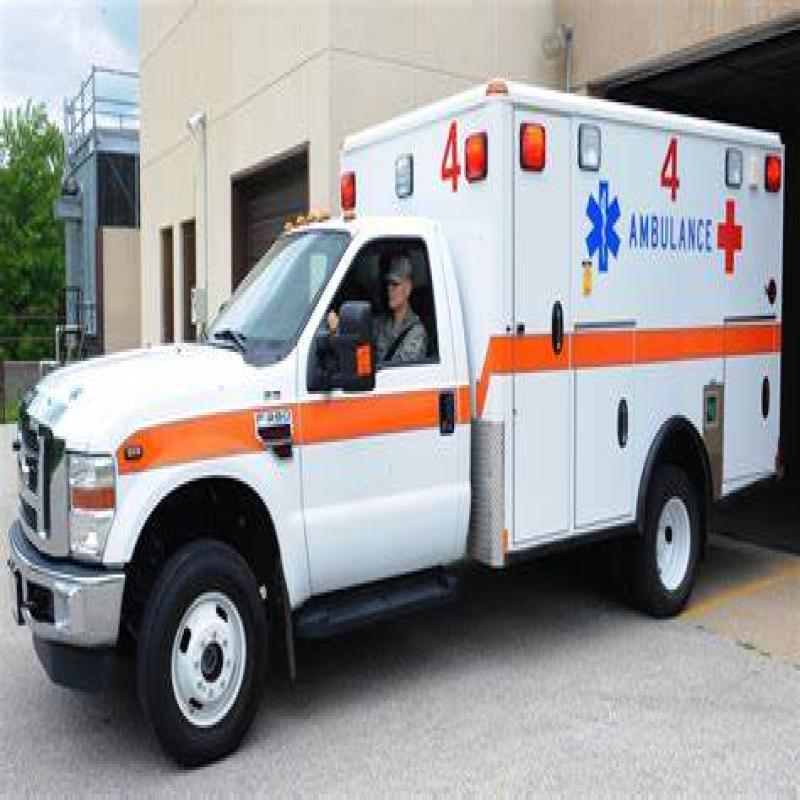AmbulanceSiren: (455, 89, 615, 198), (336, 166, 375, 254)
